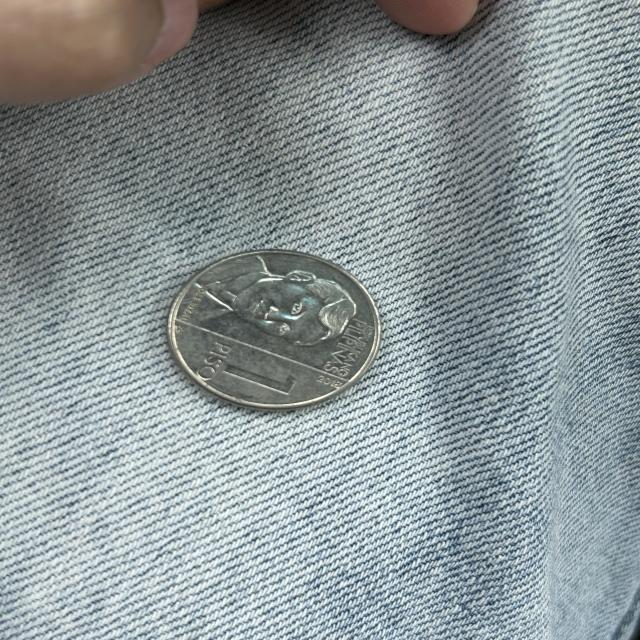1_New_Front: (190, 334, 305, 406)
